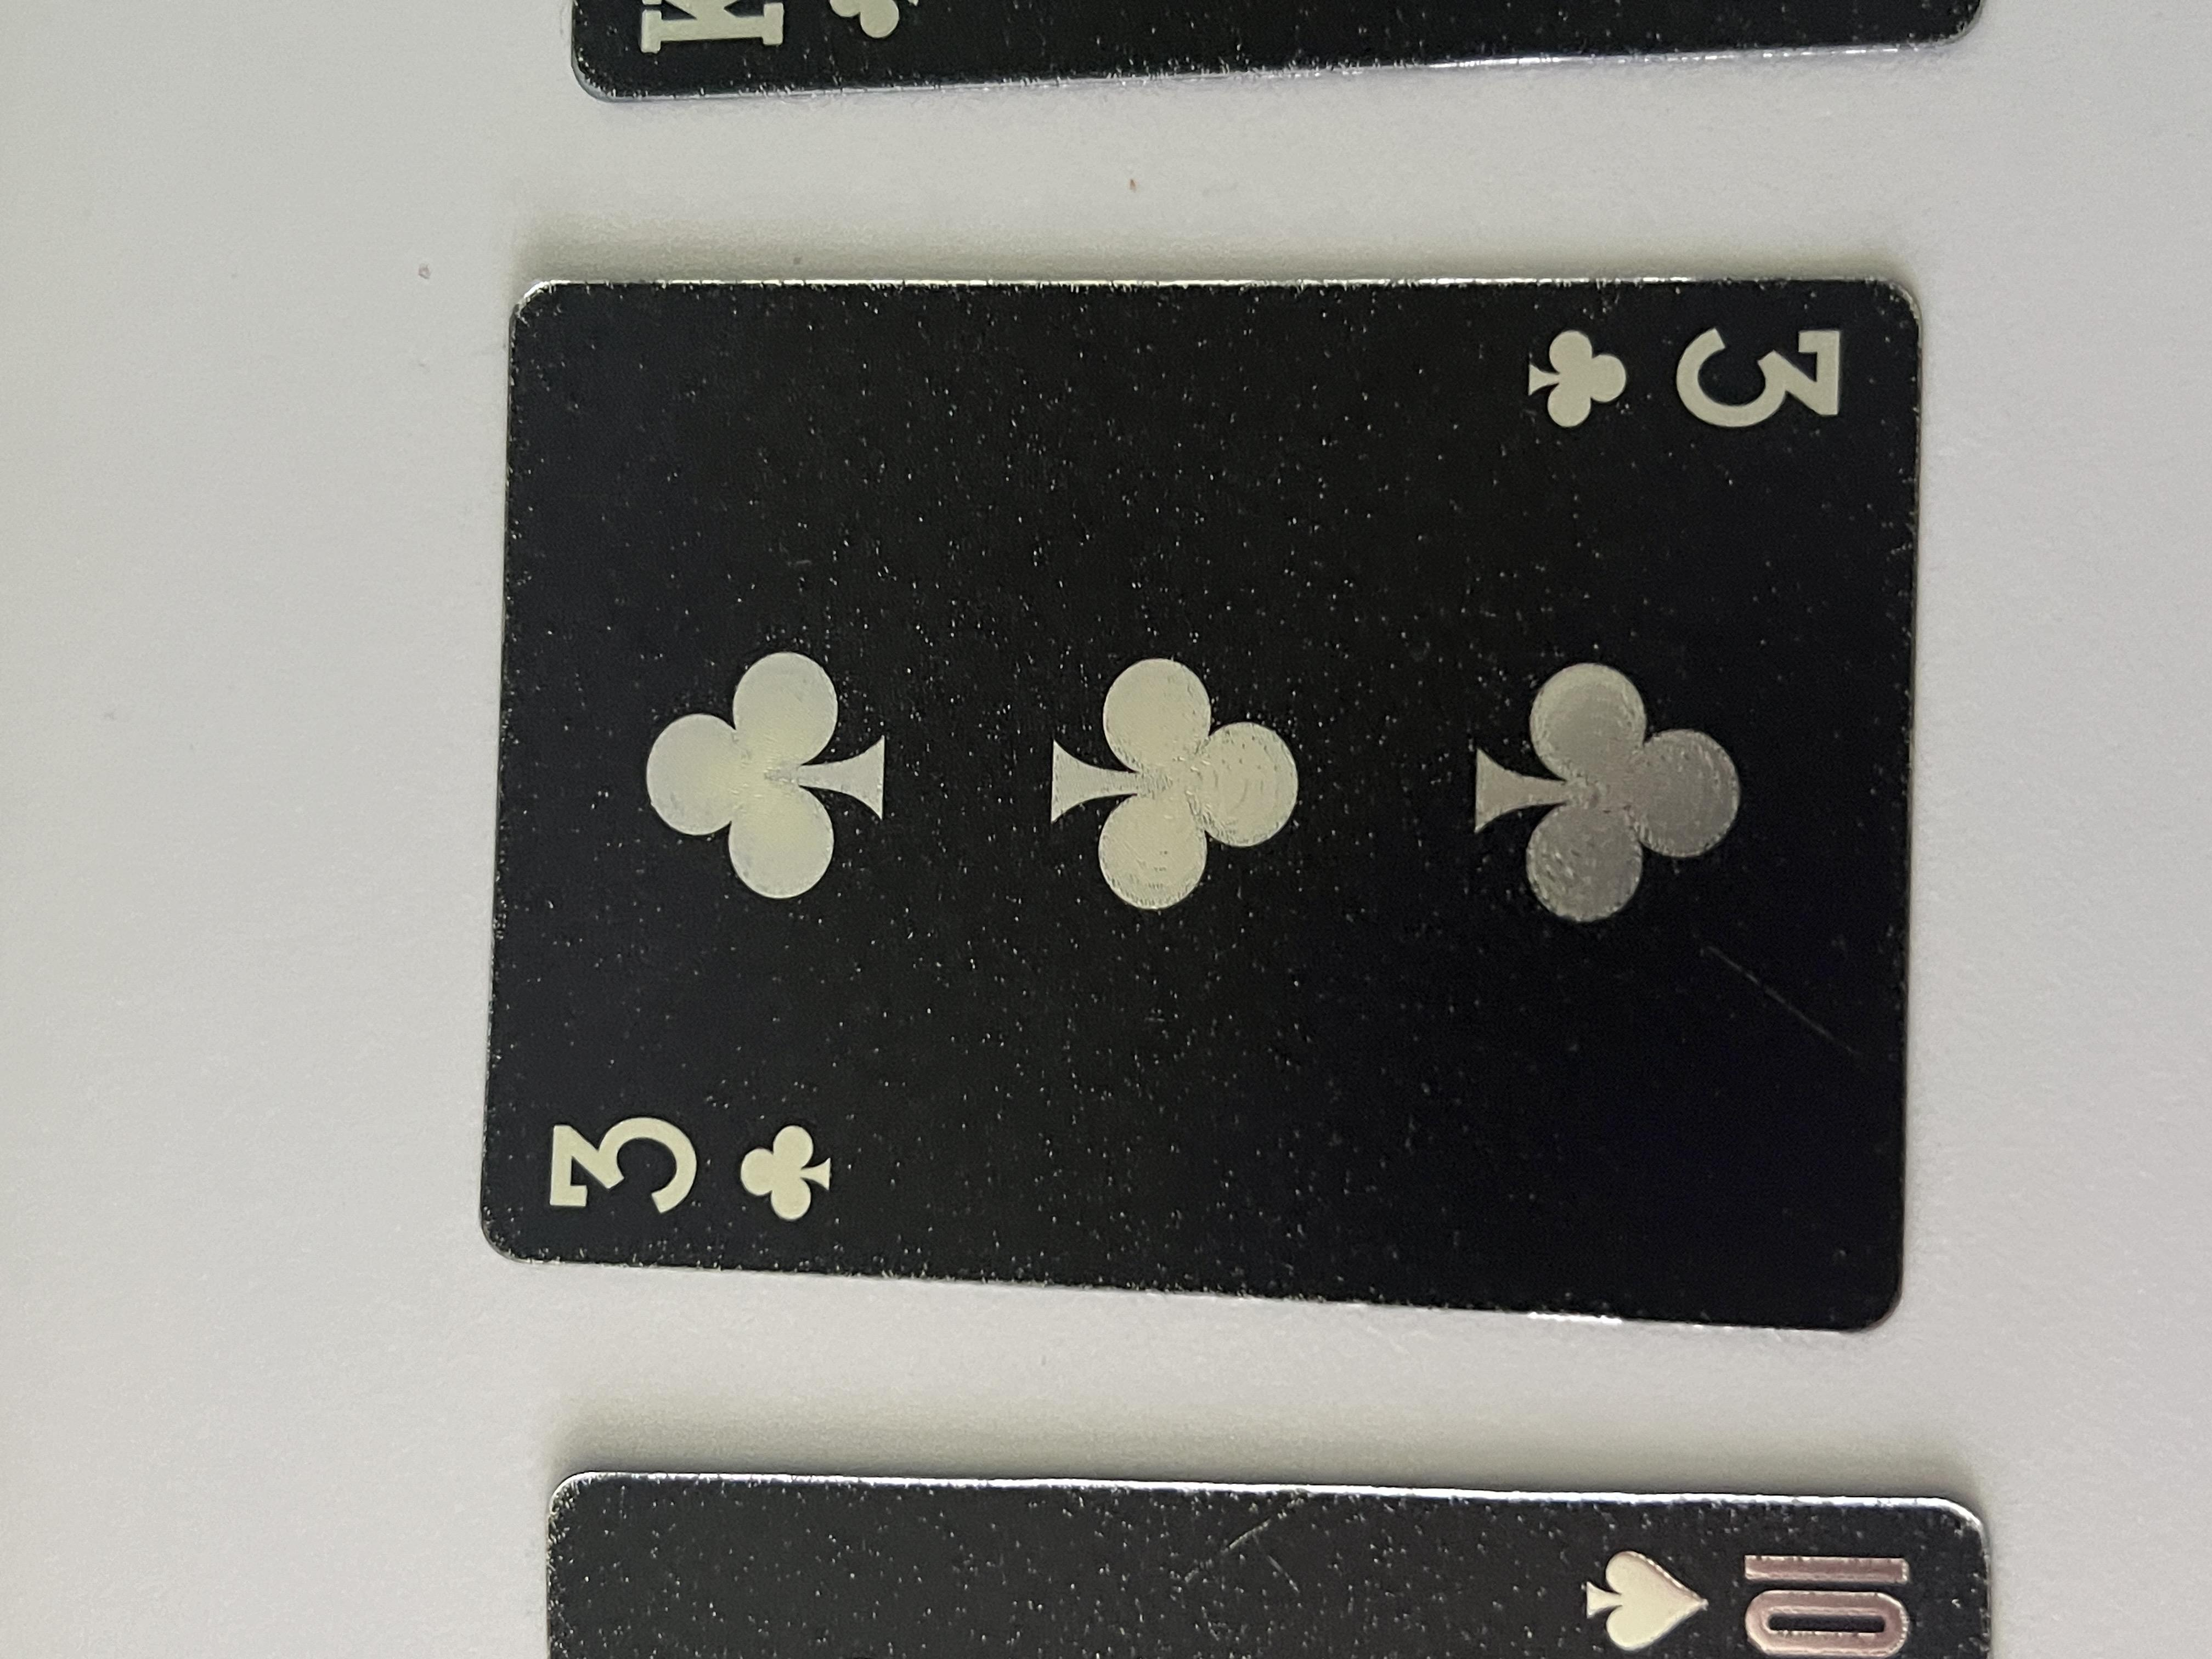10S: (0, 1187, 169, 1439)
3C: (1573, 1136, 1818, 1399), (549, 390, 758, 631)
KC: (2128, 455, 2212, 714)
